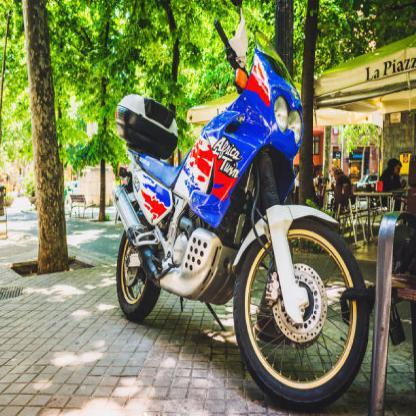Motorcycle: (105, 18, 369, 409)
